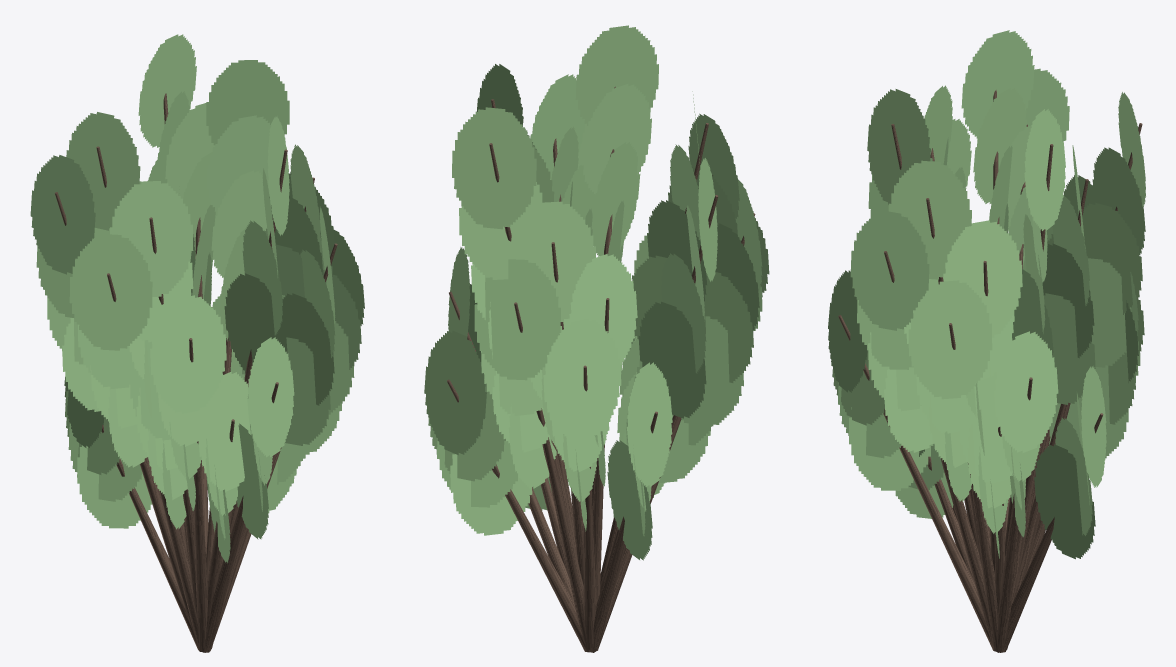
Rendered from shrub02.glb.
3 renders of one model, left to right at view 1: azimuth 30°, elevation 25°; view 2: azimuth 150°, elevation 25°; view 3: azimuth 270°, elevation 25°, orthographic. The views are drawn at different scales.
Visible parts, largest first — view 1: foliage, twigs; view 2: foliage, twigs; view 3: foliage, twigs.
Boxes of the visible parts, x1,y1,x2,y2 form: foliage: (30, 34, 364, 563); twigs: (54, 93, 337, 652); foliage: (424, 25, 769, 560); twigs: (447, 86, 755, 652); foliage: (828, 30, 1145, 559); twigs: (838, 90, 1142, 652).
Bounding box in the file's own units: 0.9014 × 1.54 × 0.8426.
Materials: 2 (2 with a texture image).
